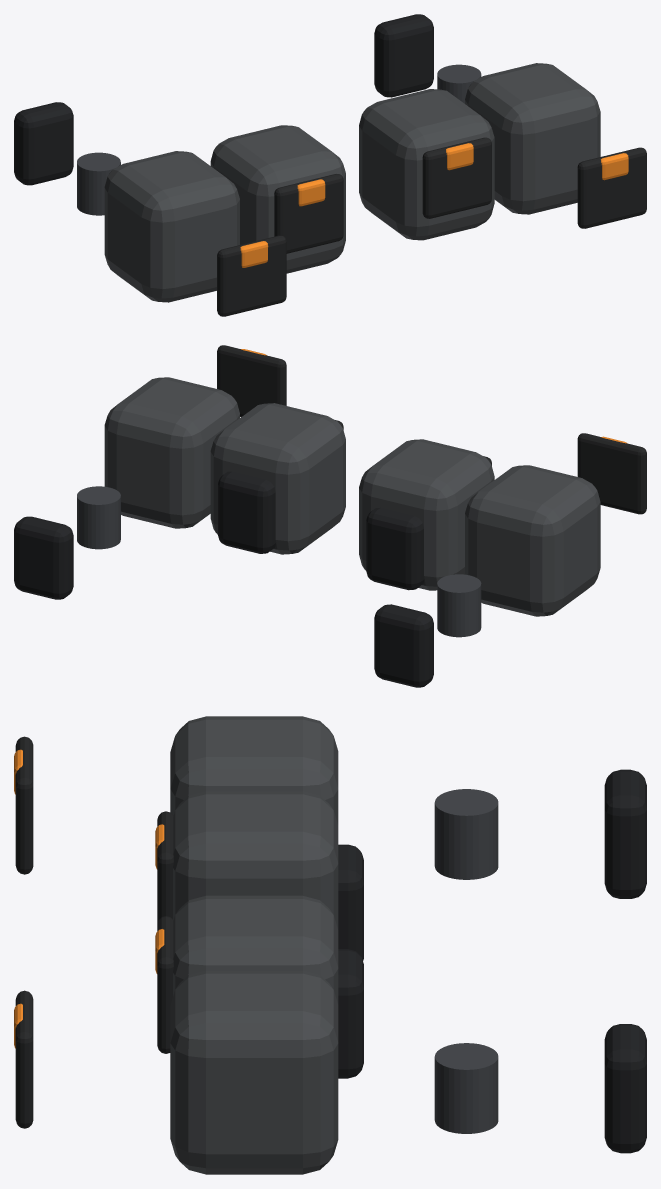
Rendered from zwift-play.glb.
The picture shows the model from 3 angles, top to bottom: view 1: azimuth 30°, elevation 25°; view 2: azimuth 150°, elevation 25°; view 3: azimuth 270°, elevation 25°; orthographic projection. The views are drawn at different scales.
Visible parts, largest first — view 1: zwift-play_L_BODY_EXPLODED, zwift-play_R_BODY_EXPLODED, zwift-play_R_BODY, zwift-play_L_BODY, zwift-play_R_CLAMP_EXPLODED, zwift-play_L_CLAMP_EXPLODED, zwift-play_R_PAD_EXPLODED, zwift-play_L_PAD_EXPLODED, zwift-play_R_PAD, zwift-play_L_PAD, zwift-play_L_BATTERY_EXPLODED, zwift-play_R_BATTERY_EXPLODED (+4 smaller); view 2: zwift-play_L_BODY_EXPLODED, zwift-play_R_BODY_EXPLODED, zwift-play_R_BODY, zwift-play_L_BODY, zwift-play_L_CLAMP_EXPLODED, zwift-play_R_CLAMP_EXPLODED, zwift-play_L_PAD_EXPLODED, zwift-play_R_CLAMP, zwift-play_L_CLAMP, zwift-play_R_PAD_EXPLODED, zwift-play_L_BATTERY_EXPLODED, zwift-play_R_BATTERY_EXPLODED; view 3: zwift-play_R_BODY_EXPLODED, zwift-play_L_BODY, zwift-play_L_BODY_EXPLODED, zwift-play_R_BODY, zwift-play_L_BATTERY_EXPLODED, zwift-play_R_BATTERY_EXPLODED, zwift-play_L_CLAMP_EXPLODED, zwift-play_R_CLAMP_EXPLODED, zwift-play_R_CLAMP, zwift-play_L_CLAMP, zwift-play_R_PAD_EXPLODED, zwift-play_L_PAD_EXPLODED (+2 smaller).
Part boxes in pixels (x1,y1,x2,y2): zwift-play_L_BODY_EXPLODED: (104,151,239,302); zwift-play_R_BODY_EXPLODED: (465,63,600,214); zwift-play_R_BODY: (359,89,494,240); zwift-play_L_BODY: (210,125,345,273); zwift-play_R_CLAMP_EXPLODED: (374,14,433,97); zwift-play_L_CLAMP_EXPLODED: (14,102,73,185); zwift-play_R_PAD_EXPLODED: (577,147,646,228); zwift-play_L_PAD_EXPLODED: (217,235,286,316); zwift-play_R_PAD: (422,137,491,218); zwift-play_L_PAD: (274,174,343,253); zwift-play_L_BATTERY_EXPLODED: (77,152,120,215); zwift-play_R_BATTERY_EXPLODED: (437,64,481,103); zwift-play_L_BODY_EXPLODED: (465,465,600,616); zwift-play_R_BODY_EXPLODED: (104,377,239,528); zwift-play_R_BODY: (210,403,345,554); zwift-play_L_BODY: (359,439,494,590); zwift-play_L_CLAMP_EXPLODED: (374,604,433,687); zwift-play_R_CLAMP_EXPLODED: (14,516,73,599); zwift-play_L_PAD_EXPLODED: (577,433,646,514); zwift-play_R_CLAMP: (218,471,275,553); zwift-play_L_CLAMP: (366,507,424,590); zwift-play_R_PAD_EXPLODED: (217,345,286,416); zwift-play_L_BATTERY_EXPLODED: (437,574,481,637); zwift-play_R_BATTERY_EXPLODED: (77,486,120,549); zwift-play_R_BODY_EXPLODED: (170,970,338,1174); zwift-play_L_BODY: (173,791,338,929); zwift-play_L_BODY_EXPLODED: (170,716,338,824); zwift-play_R_BODY: (173,895,338,1004); zwift-play_L_BATTERY_EXPLODED: (434,789,498,879); zwift-play_R_BATTERY_EXPLODED: (434,1043,498,1133); zwift-play_L_CLAMP_EXPLODED: (604,769,646,898); zwift-play_R_CLAMP_EXPLODED: (604,1024,646,1153); zwift-play_R_CLAMP: (338,949,363,1078); zwift-play_L_CLAMP: (338,844,363,960); zwift-play_R_PAD_EXPLODED: (15,990,33,1128); zwift-play_L_PAD_EXPLODED: (15,736,33,874).
Bounding box in the file's own units: 0.43 × 0.1 × 0.358.
